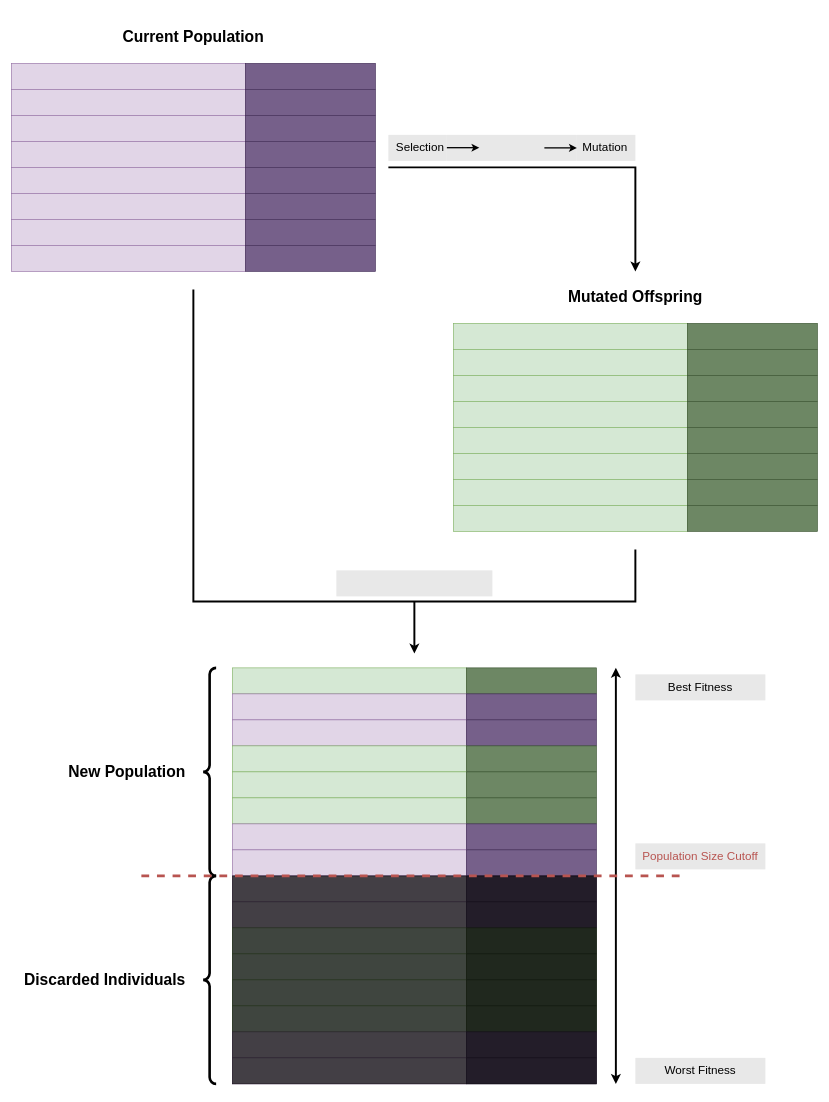
Some shapes in this 829 by 1102 pixel diagram are drawn without their labels. Each missing label, with the box of its shape:
Crossover: (447, 135, 577, 161)
Merge and Sort by Fitness: (336, 570, 492, 596)
